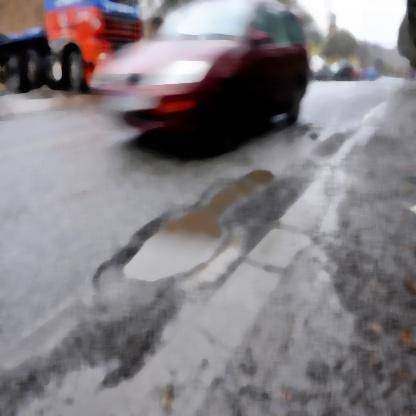Potholes: (107, 167, 270, 291)
